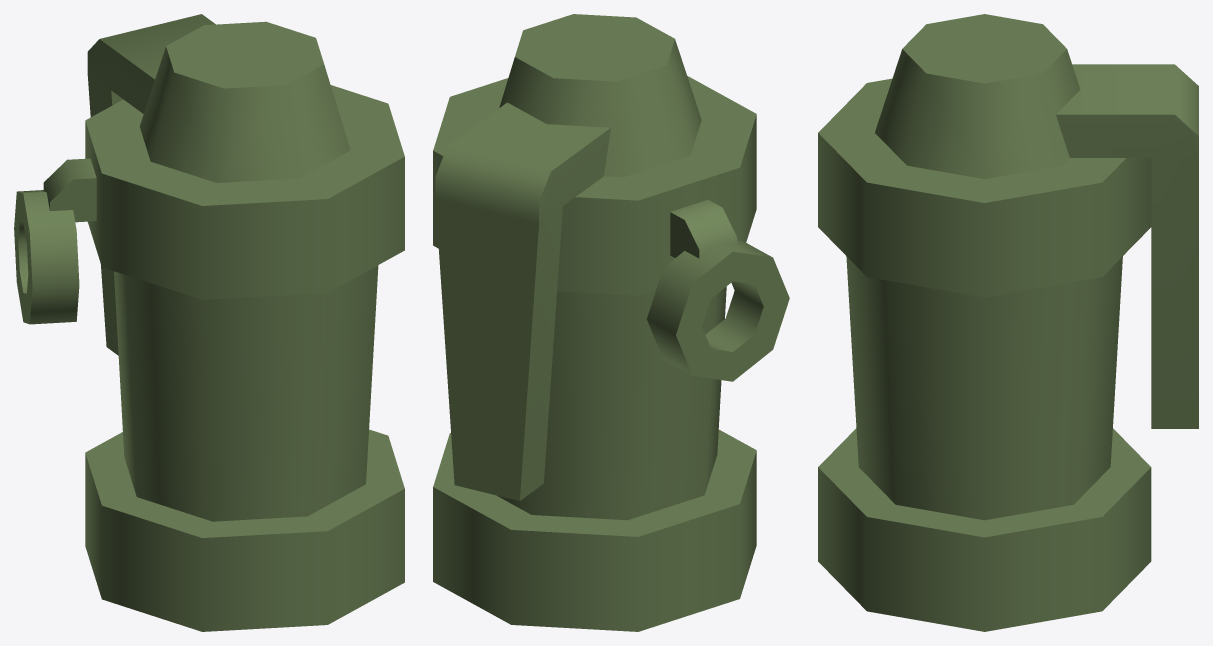
Rendered from grenade-v1.glb.
3 renders of one model, left to right at view 1: azimuth 30°, elevation 25°; view 2: azimuth 150°, elevation 25°; view 3: azimuth 270°, elevation 25°, orthographic.
Visible parts, largest first — view 1: grenade-body; view 2: grenade-body; view 3: grenade-body.
Boxes of the visible parts, x1,y1,x2,y2 form: grenade-body: (14,14,404,631); grenade-body: (433,14,789,631); grenade-body: (818,14,1198,631).
Size of the model in its own units: 0.1279 by 0.18 by 0.1211.
